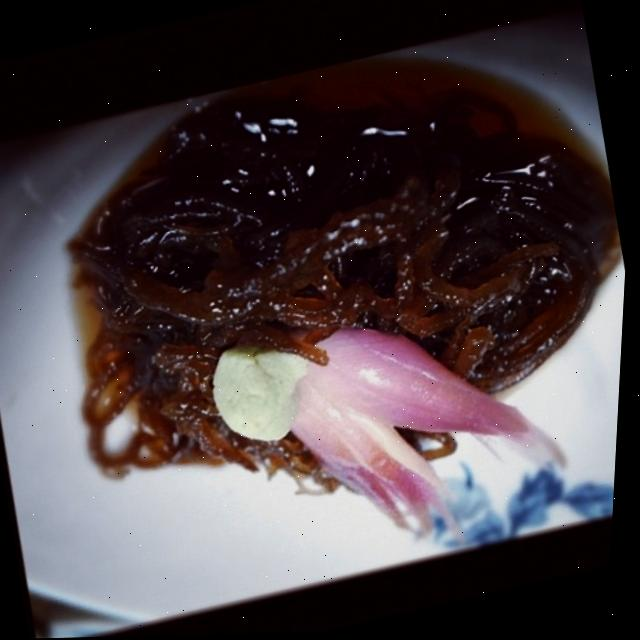蔬菜料理: (0, 5, 639, 612)
